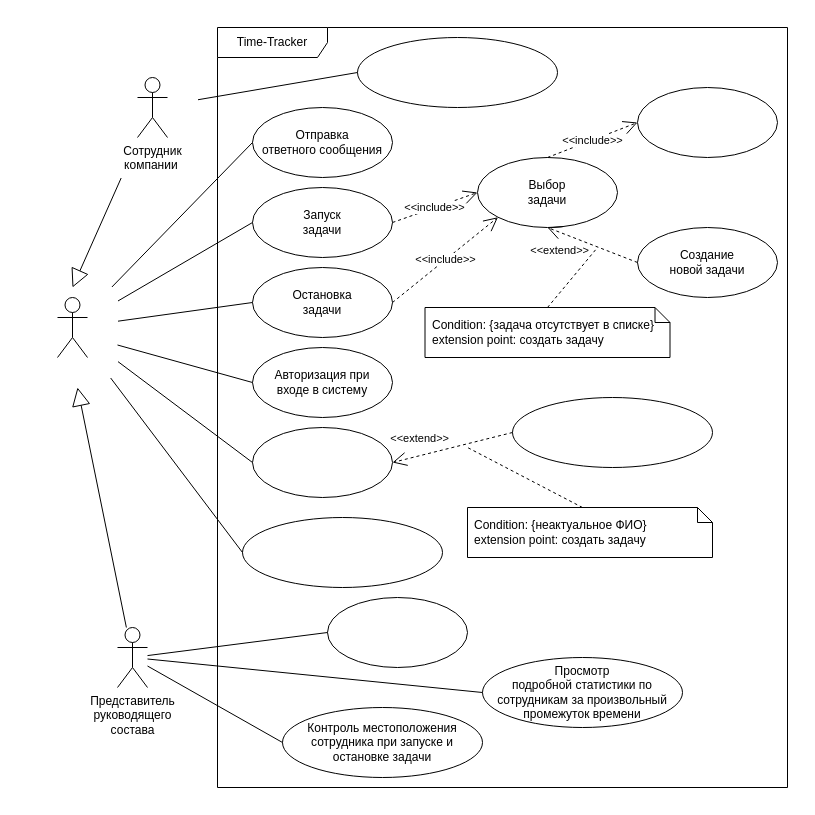
Image size: 815x815. Some labels were removed from this diagram. The shapes that lost their labels are listed below. From the top down, each one's box as (x1, y1, x2, y2) in pixels, then its label:
(356, 36, 558, 108): Отправка сообщения представителю руководящего состава
(636, 86, 778, 158): Выбор проекта
(56, 296, 88, 358): Пользователь
(512, 396, 712, 468): Смена ФИО, с которым зарегистрирован пользователь
(252, 426, 392, 498): Регистрация в системе
(242, 516, 442, 588): Просмотр личной статистики отработанного времени за предыдущий месяц
(326, 596, 468, 668): Создание нового проекта
